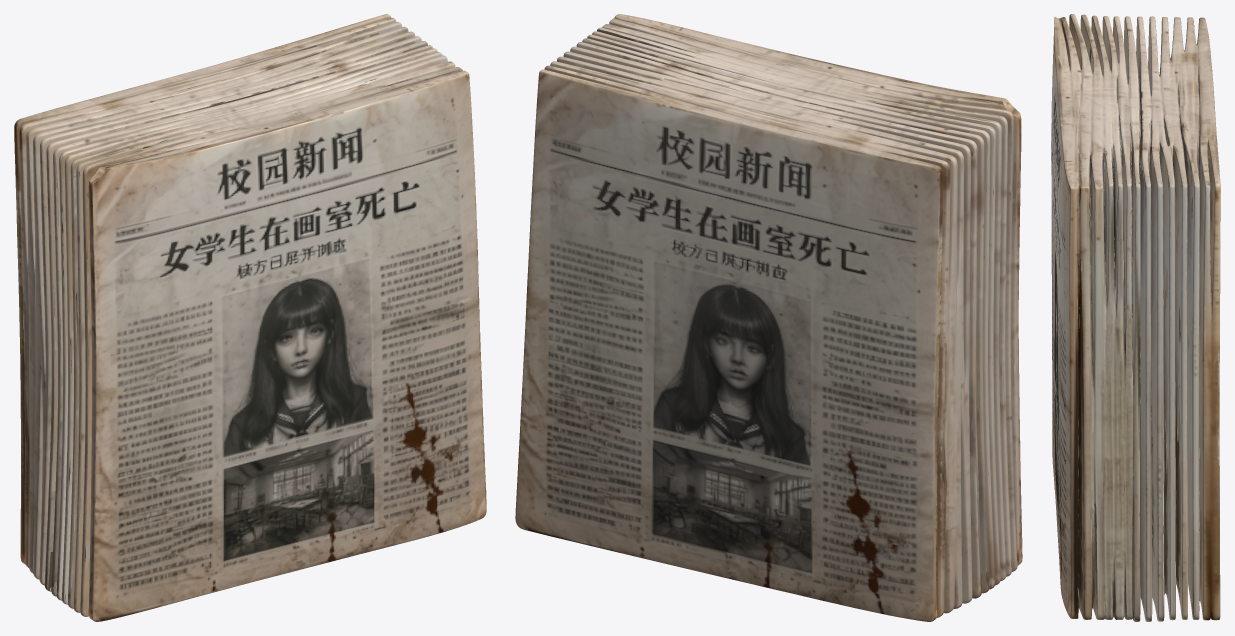
File: CASE01_newspaper_env_01.glb
3 views of the same model, side by side, from view 1: azimuth 30°, elevation 25°; view 2: azimuth 150°, elevation 25°; view 3: azimuth 270°, elevation 25° (orthographic). The views are drawn at different scales.
Parts seen in each view (by area): view 1: geometry_0; view 2: geometry_0; view 3: geometry_0.
Part boxes in pixels (<box>): geometry_0: <box>14,14,486,621</box>; geometry_0: <box>515,14,1022,621</box>; geometry_0: <box>1051,14,1220,621</box>.
Size of the model in its own units: 0.54 by 0.5612 by 0.2007.
1 material, 1 textured.
